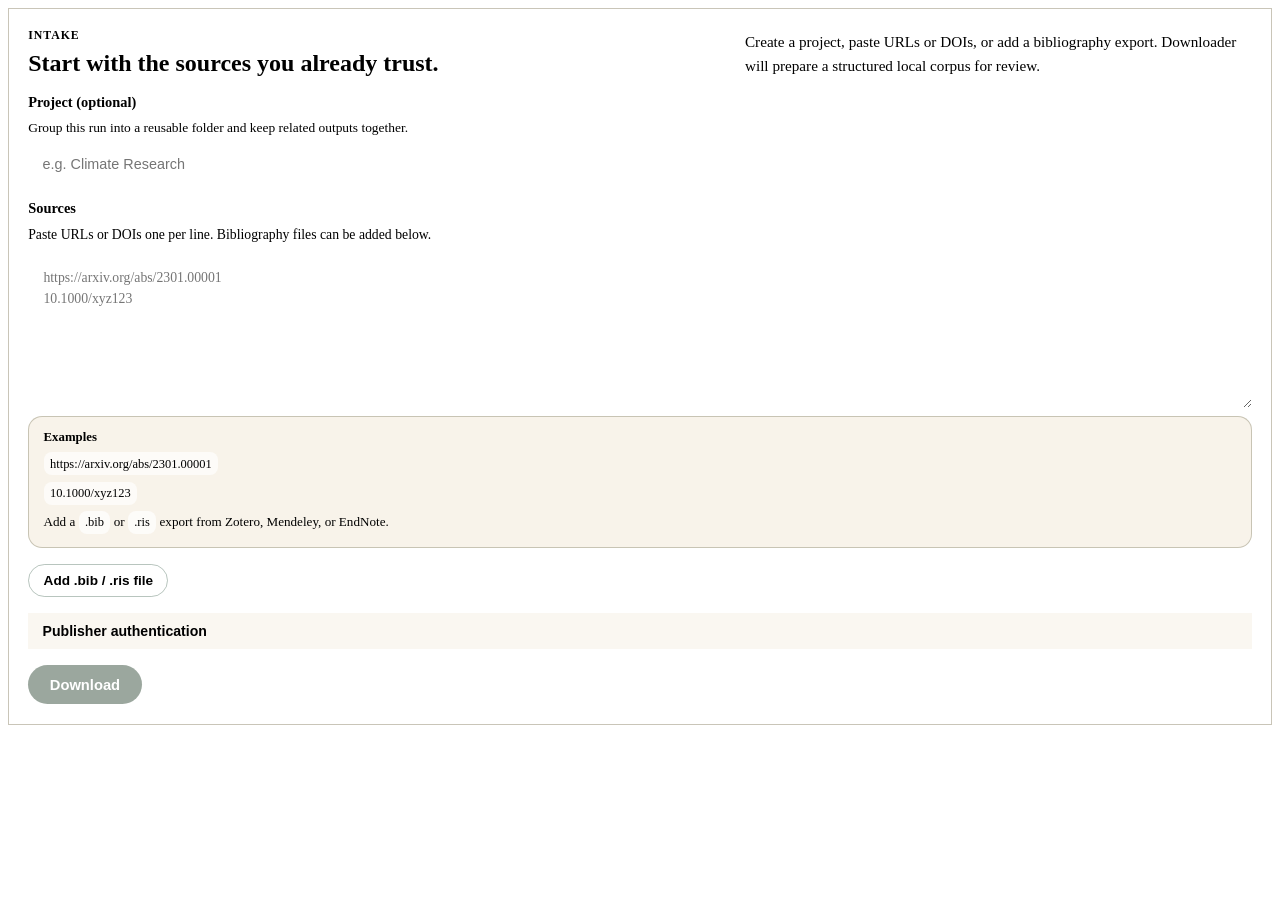
it: DownloadForm › renders backend errors and exits downloading state on rejection
The image size is (1280, 900).
Step 1. Type "https://example.com/a.pdf" into the text box → (640, 331), box x1=28 y1=253 x2=1252 y2=408
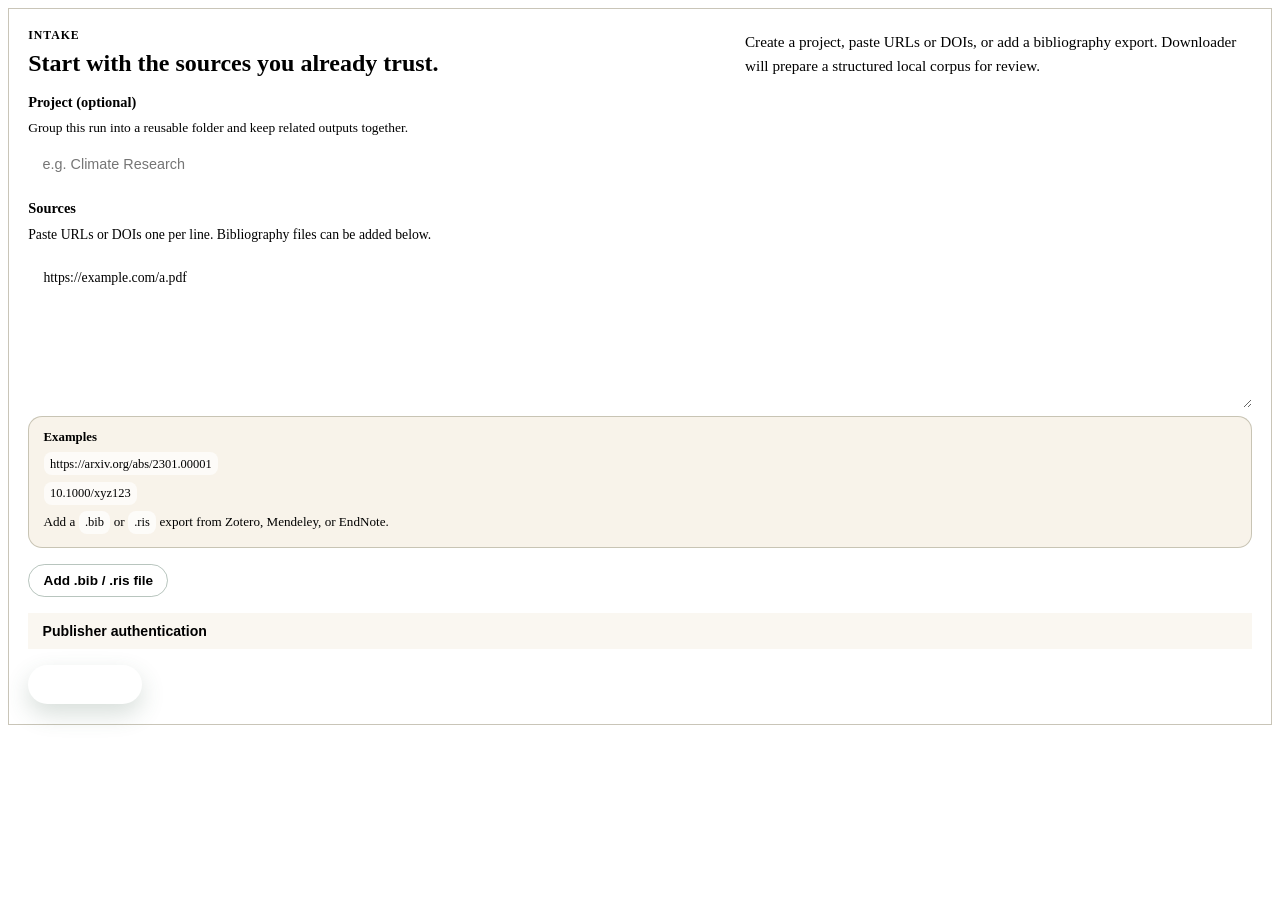
Step 2. Submit the form named "download"
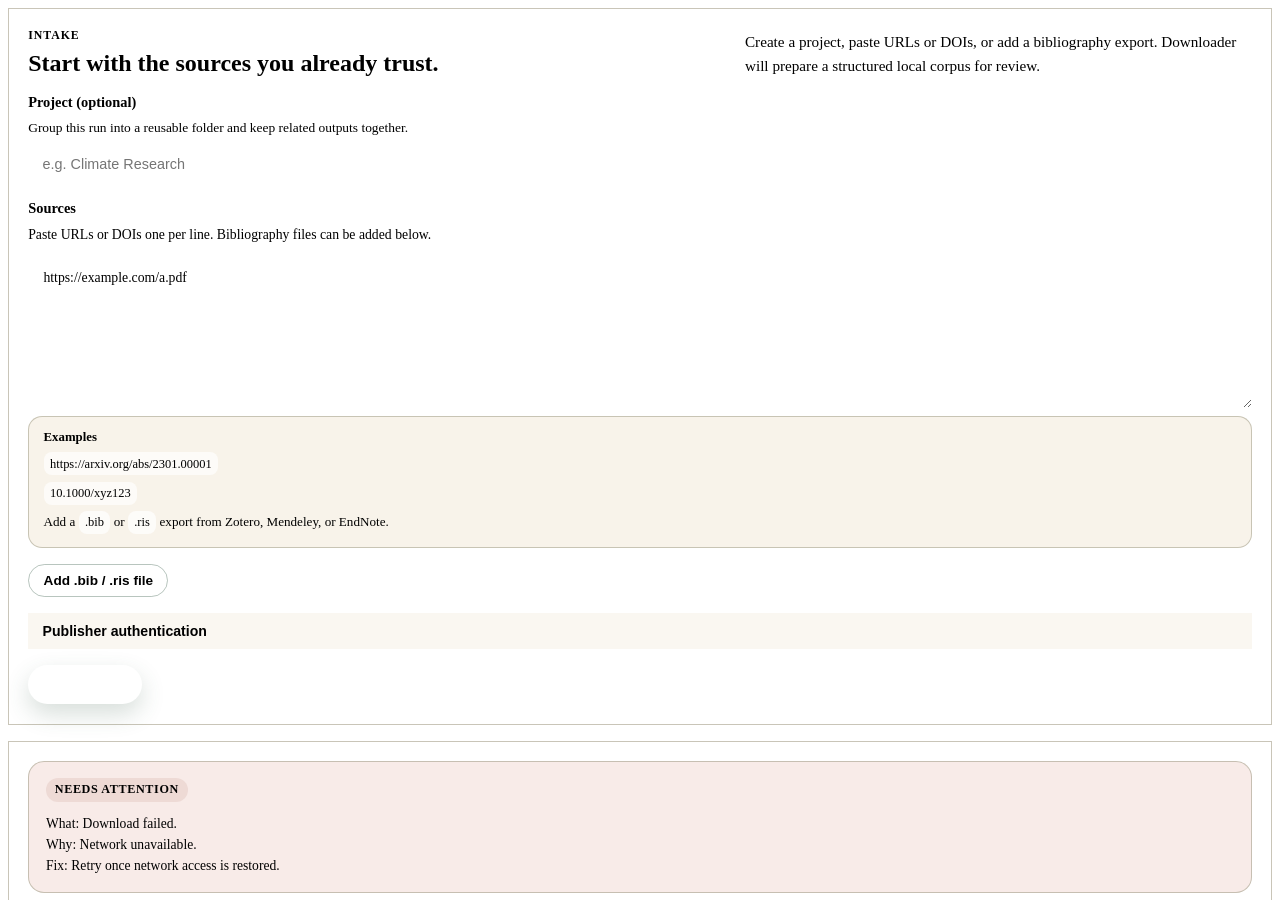
expect the button "Download" is shown: met, box x1=28 y1=665 x2=142 y2=704
expect the text "What: Download failed." is shown: met, box x1=46 y1=816 x2=280 y2=873
